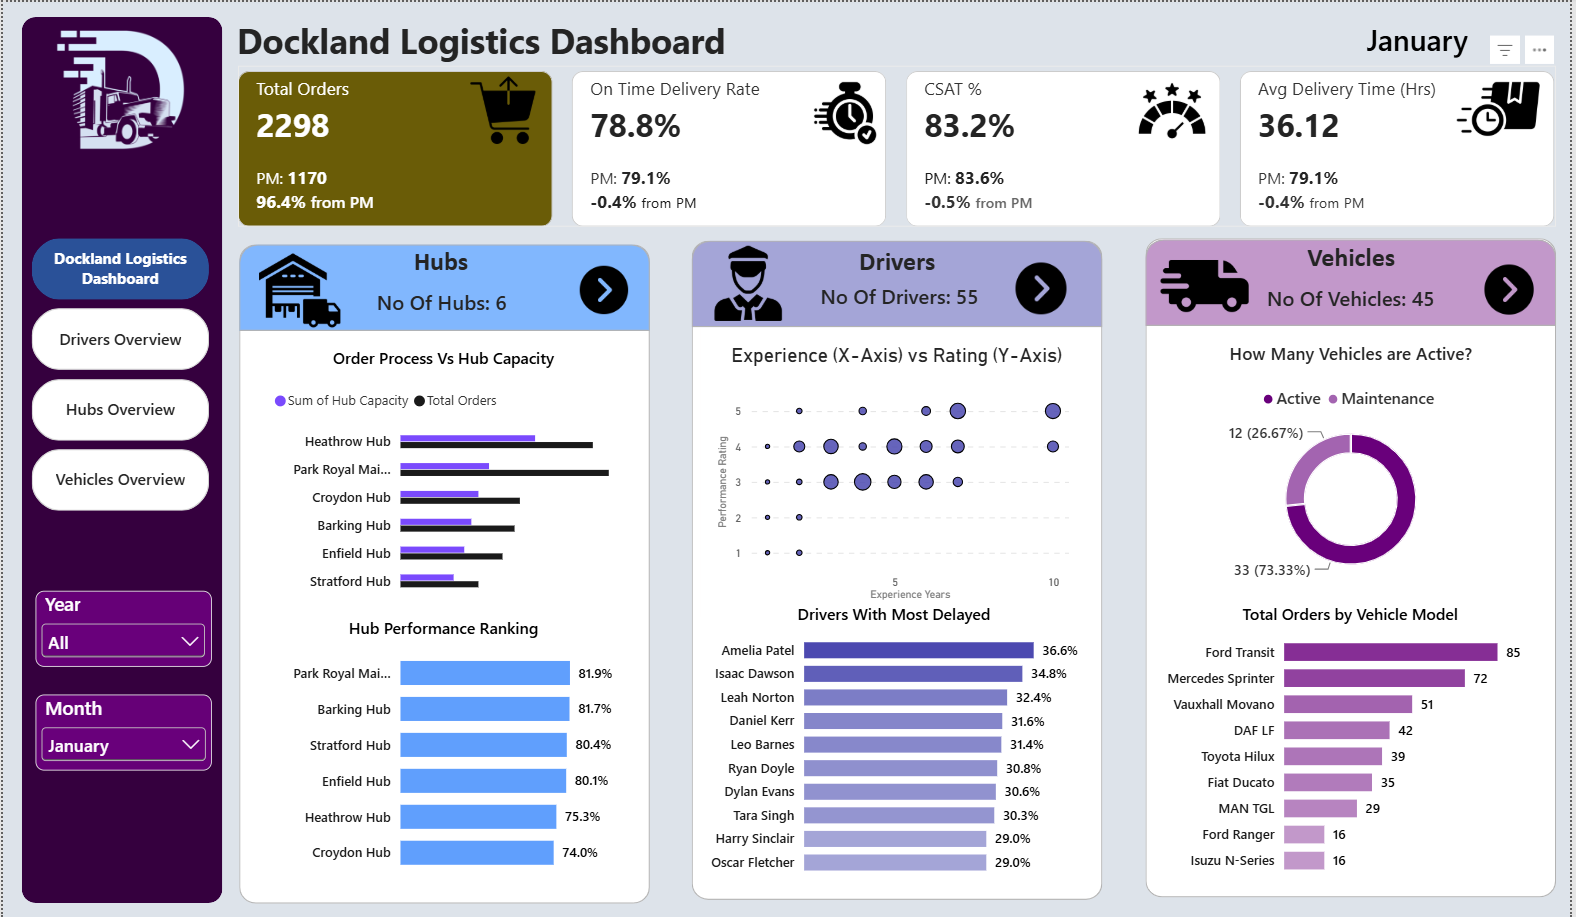

The page's visual inventory and layout, read from the dashboard file:
{"tool":"powerbi","page":{"name":"Dockland Logistics Dashboard","canvas":[1450,850],"ordinal":0},"visuals":[{"type":"shape","box":[17.1,14.3,185.7,820],"z":0},{"type":"textbox","box":[216.7,14.1,473.1,44.9],"z":1000},{"type":"cardVisual","fields":{"Data":["Orders.Total Orders","Orders.On Time Delivery Rate","Orders.CSAT %","Orders.Avg Delivery Time (Hrs)"]},"box":[217.1,59.4,1219.4,149.3],"z":2000},{"type":"slicer","fields":{"Values":["Date Table.Year"]},"box":[30.6,545,162.8,70],"z":3000},{"type":"slicer","fields":{"Values":["Date Table.Month"]},"box":[30.6,640.8,163.3,70],"z":4000},{"type":"shape","box":[218.6,224.3,380,610],"z":5000},{"type":"shape","box":[218.6,224.3,380,80],"z":6000},{"type":"textbox","box":[357.1,224.3,95.7,40],"z":7000},{"type":"cardVisual","fields":{"Data":["Hubs.No of Hubs"]},"box":[328.6,264.3,155.7,28.6],"z":8000},{"type":"clusteredBarChart","title":"Order Process Vs Hub Capacity","fields":{"Category":["Hubs.HubName"],"Y":["Sum(Hubs.Hub Capacity)","Orders.Total Orders"]},"box":[234.3,304.3,345.7,264.3],"z":9000},{"type":"barChart","title":"Hub Performance Ranking","fields":{"Category":["Hubs.HubName"],"Y":["Orders.On Time Delivery Rate"]},"box":[234.3,554.3,345.7,274.3],"z":10000},{"type":"shape","box":[637.1,221.4,380,610],"z":11000},{"type":"shape","box":[637.1,221.4,380,80],"z":12000},{"type":"shape","box":[1057.1,218.6,380,610],"z":13000},{"type":"shape","box":[1057.1,220,380,80],"z":14000},{"type":"cardVisual","fields":{"Data":["Drivers.No of Drivers"]},"box":[724.3,251.4,211.4,40],"z":15000},{"type":"textbox","box":[780,224.3,95.7,40],"z":16000},{"type":"scatterChart","title":"Experience (X-Axis) vs Rating (Y-Axis)","fields":{"X":["Drivers.Experience Years"],"Y":["Drivers.Performance Rating"],"Size":["Sum(Drivers.Experience Years)1"]},"box":[645.7,301.4,362.9,267.1],"z":17000},{"type":"barChart","title":"Drivers With Most Delayed","fields":{"Category":["Drivers.DriverName"],"Y":["Orders.Delayed Delivery Rate"]},"box":[637.1,541.4,374.3,287.1],"z":18000},{"type":"textbox","box":[1177.1,221.4,140,35.7],"z":19000},{"type":"cardVisual","fields":{"Data":["Vehicles.No of vehicles"]},"box":[1141.4,252.9,211.4,40],"z":20000},{"type":"donutChart","title":"How Many Vehicles are Active?","fields":{"Category":["Vehicles.Vehicle Status"],"Y":["CountNonNull(Vehicles.Vehicle ID)"]},"box":[1057.1,300,380,254.3],"z":21000},{"type":"barChart","fields":{"Category":["Vehicles.Vehicle Model"],"Y":["Orders.Total Orders"]},"box":[1060,541.4,374.3,287.1],"z":22000},{"type":"image","box":[17.1,14.3,185.7,144.3],"z":23000},{"type":"cardVisual","fields":{"Data":["Orders.Year Month Title"]},"box":[1182.9,14.3,251.4,40],"z":24000},{"type":"image","box":[641.5,225.2,94.8,69.8],"z":25000},{"type":"image","box":[218.7,226.6,109.3,77.7],"z":26000},{"type":"image","box":[1070.9,222.6,81.7,81.7],"z":27000},{"type":"image","box":[532.2,243.7,47.4,44.8],"z":28000},{"type":"image","box":[936.5,239.7,47.4,51.4],"z":29000},{"type":"image","box":[1366,242.4,55.3,46.1],"z":30000},{"type":"pageNavigator","box":[26.5,219.2,164.7,255.5],"z":31000},{"type":"image","box":[422.2,67.5,80.2,66.3],"z":32000},{"type":"image","box":[745.5,53.5,68.6,98.9],"z":33000},{"type":"image","box":[1040.9,68.6,81.4,65.1],"z":34000},{"type":"image","box":[1345.6,59.3,76.8,80.2],"z":35000}]}

Visuals, with their boxes in screenshot pixels (x1, y1, x2, y2), scaled from the page's 1450x850 canvas onto the 1576x917 screenshot:
shape: [left=19, top=15, right=220, bottom=900]
textbox: [left=236, top=15, right=750, bottom=64]
cardVisual - Orders.Total Orders x Orders.On Time Delivery Rate: [left=236, top=64, right=1561, bottom=225]
slicer - Date Table.Year: [left=33, top=588, right=210, bottom=663]
slicer - Date Table.Month: [left=33, top=691, right=211, bottom=767]
shape: [left=238, top=242, right=651, bottom=900]
shape: [left=238, top=242, right=651, bottom=328]
textbox: [left=388, top=242, right=492, bottom=285]
cardVisual - Hubs.No of Hubs: [left=357, top=285, right=526, bottom=316]
"Order Process Vs Hub Capacity" clusteredBarChart: [left=255, top=328, right=630, bottom=613]
"Hub Performance Ranking" barChart: [left=255, top=598, right=630, bottom=894]
shape: [left=692, top=239, right=1105, bottom=897]
shape: [left=692, top=239, right=1105, bottom=325]
shape: [left=1149, top=236, right=1562, bottom=894]
shape: [left=1149, top=237, right=1562, bottom=324]
cardVisual - Drivers.No of Drivers: [left=787, top=271, right=1017, bottom=314]
textbox: [left=848, top=242, right=952, bottom=285]
"Experience (X-Axis) vs Rating (Y-Axis)" scatterChart: [left=702, top=325, right=1096, bottom=613]
"Drivers With Most Delayed" barChart: [left=692, top=584, right=1099, bottom=894]
textbox: [left=1279, top=239, right=1432, bottom=277]
cardVisual - Vehicles.No of vehicles: [left=1241, top=273, right=1470, bottom=316]
"How Many Vehicles are Active?" donutChart: [left=1149, top=324, right=1562, bottom=598]
barChart - Vehicles.Vehicle Model x Orders.Total Orders: [left=1152, top=584, right=1559, bottom=894]
image: [left=19, top=15, right=220, bottom=171]
cardVisual - Orders.Year Month Title: [left=1286, top=15, right=1559, bottom=59]
image: [left=697, top=243, right=800, bottom=318]
image: [left=238, top=244, right=357, bottom=328]
image: [left=1164, top=240, right=1253, bottom=328]
image: [left=578, top=263, right=630, bottom=311]
image: [left=1018, top=259, right=1069, bottom=314]
image: [left=1485, top=262, right=1545, bottom=311]
pageNavigator: [left=29, top=236, right=208, bottom=512]
image: [left=459, top=73, right=546, bottom=144]
image: [left=810, top=58, right=885, bottom=164]
image: [left=1131, top=74, right=1220, bottom=144]
image: [left=1463, top=64, right=1546, bottom=150]
